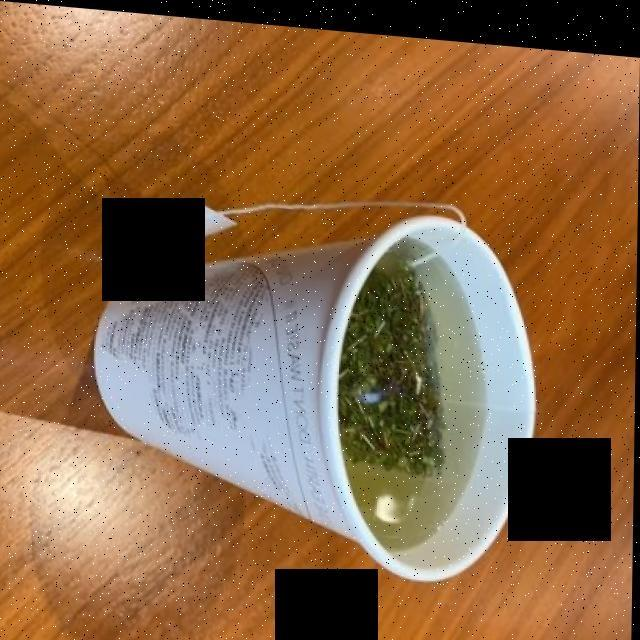tea: (344, 247, 465, 536)
